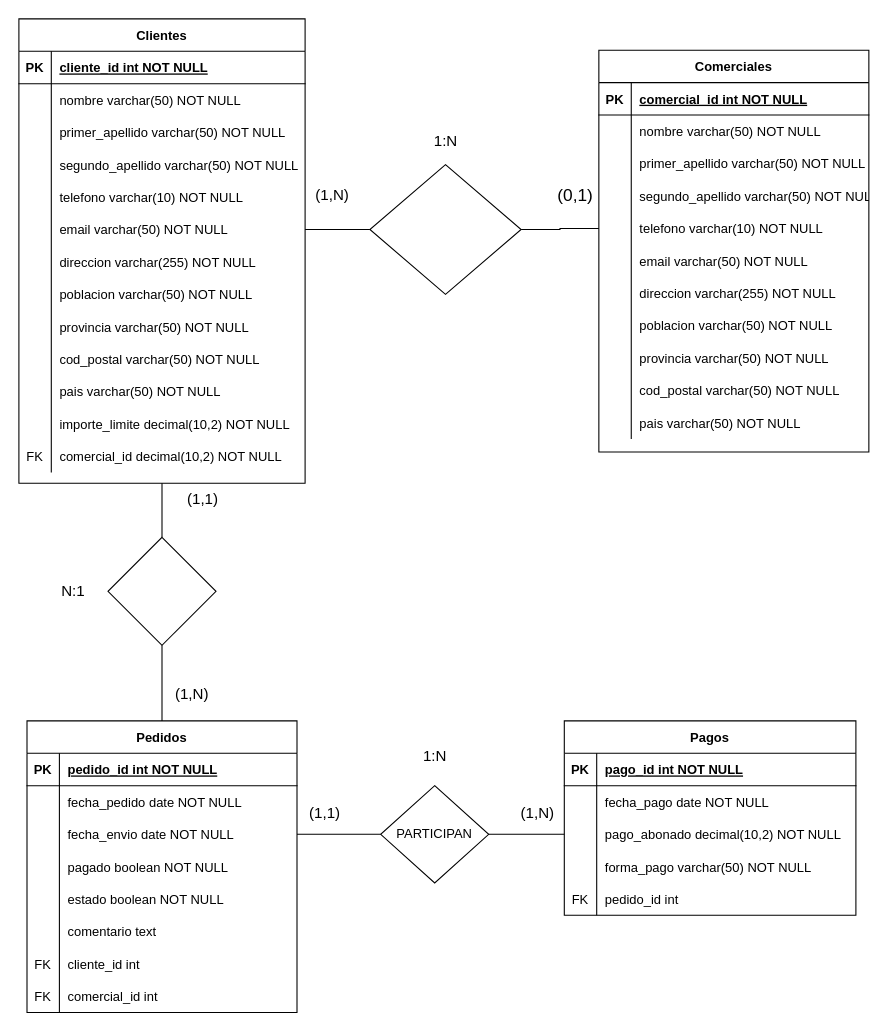
Image size: 896x1031. Some labels were removed from this diagram. Each missing label, with the centre of its shape:
ASESORAN: [445,229]
REALIZAN: [161,590]
